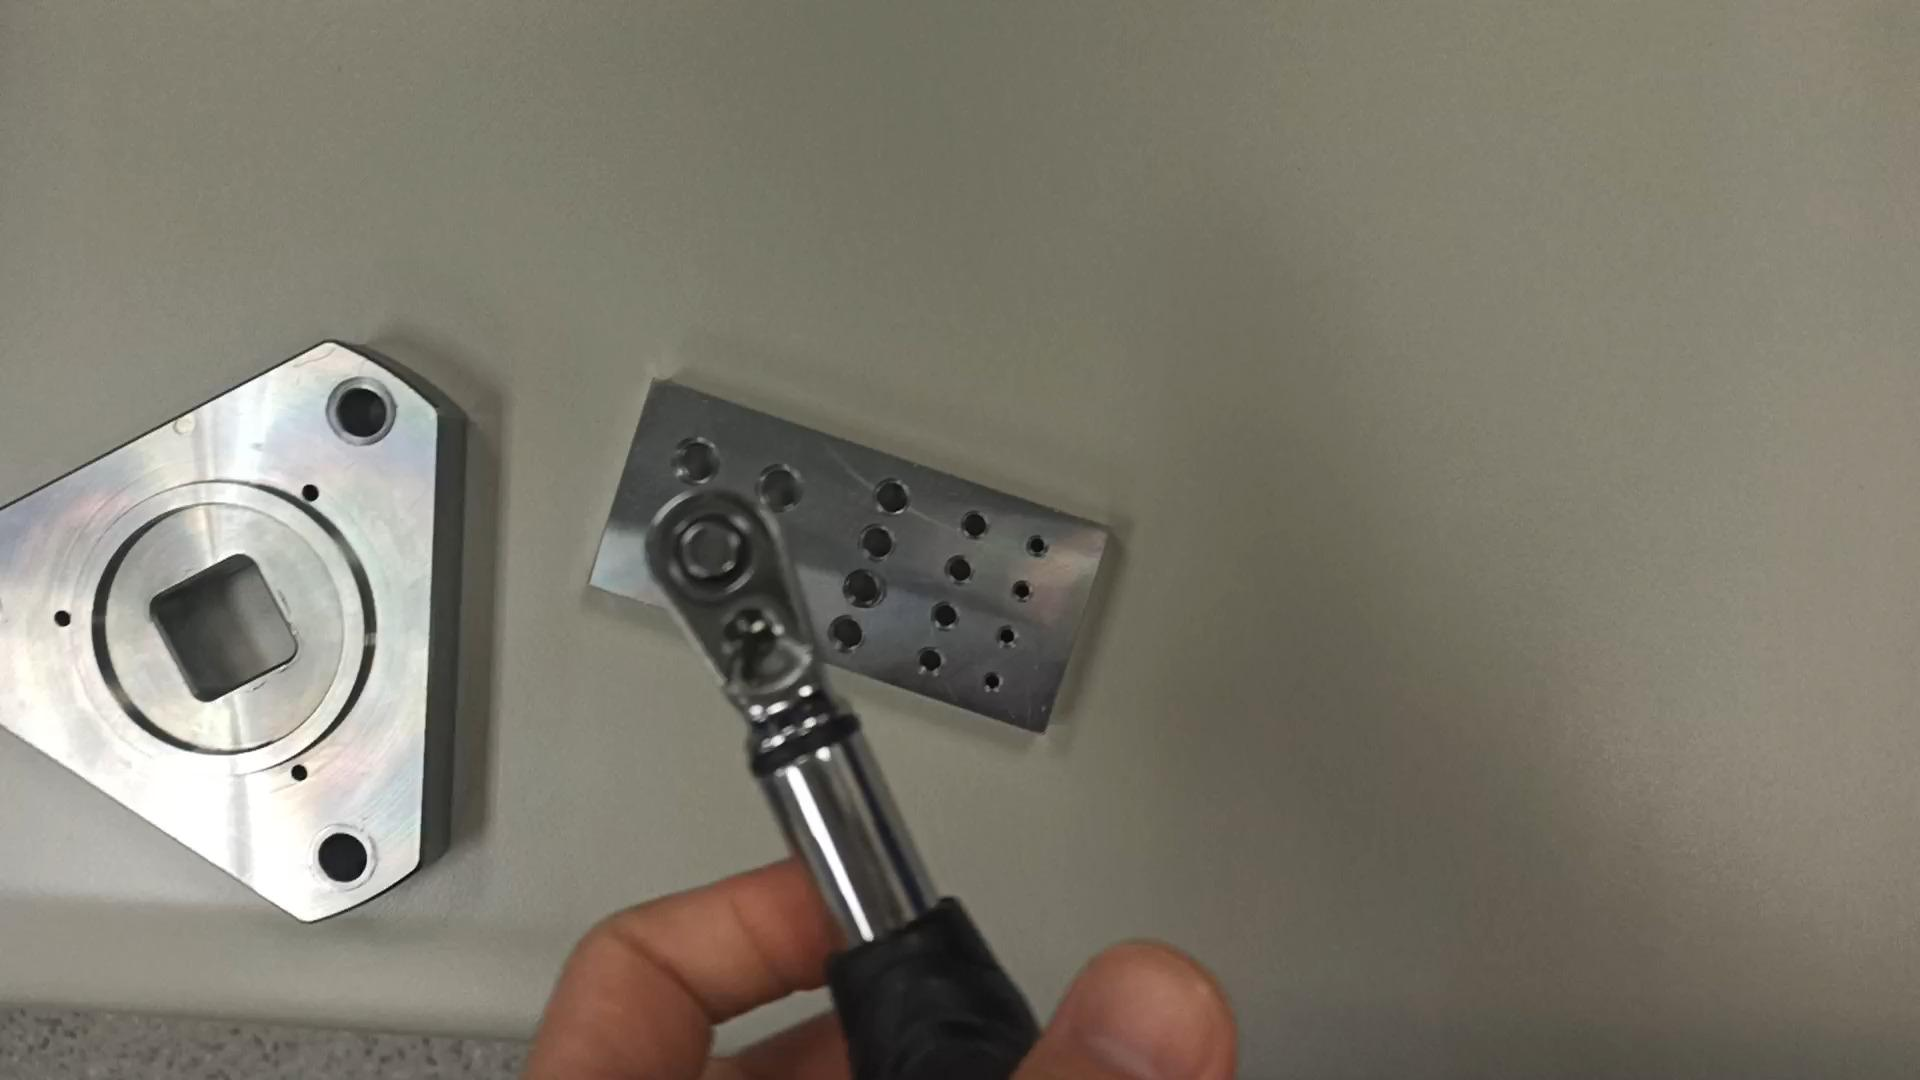Tool: (642, 494, 823, 743)
hole: (323, 375, 408, 468), (313, 826, 381, 900), (669, 434, 726, 487), (760, 462, 811, 517), (844, 567, 892, 613), (824, 613, 866, 659), (857, 520, 899, 563), (873, 478, 916, 519), (927, 597, 967, 636), (955, 506, 994, 546), (939, 551, 977, 591), (908, 645, 945, 684), (978, 667, 1013, 700), (1025, 529, 1053, 562), (1008, 576, 1039, 605), (996, 621, 1024, 652)
